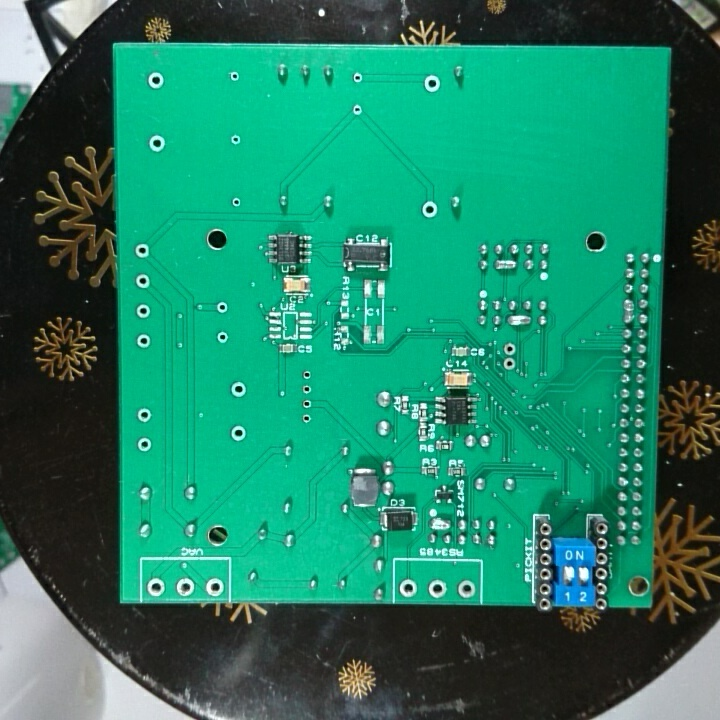F: (420, 72, 443, 95), (145, 132, 167, 156), (426, 578, 449, 600), (456, 578, 477, 601), (420, 198, 440, 222), (397, 578, 418, 599), (203, 576, 224, 597), (228, 379, 249, 400), (174, 576, 194, 597), (145, 576, 165, 597), (133, 240, 153, 261), (228, 423, 248, 444), (146, 70, 165, 91), (134, 332, 152, 352), (135, 406, 154, 424), (134, 301, 151, 321), (135, 436, 153, 454), (500, 355, 519, 372), (134, 272, 151, 291), (228, 193, 244, 210), (215, 328, 229, 347), (227, 68, 242, 85), (228, 132, 243, 148), (351, 69, 365, 86), (299, 412, 314, 427), (299, 368, 314, 383), (214, 299, 228, 315), (350, 100, 362, 118), (502, 342, 517, 356), (299, 397, 314, 411), (299, 383, 314, 396)
P: (425, 515, 454, 532), (505, 312, 534, 328), (621, 296, 635, 326), (493, 257, 518, 272)
